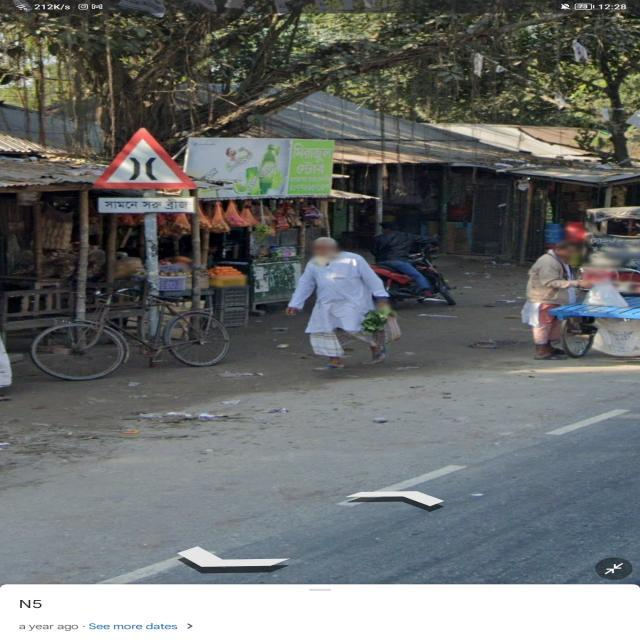Ahead-of-the-bridge: (82, 125, 201, 229)
